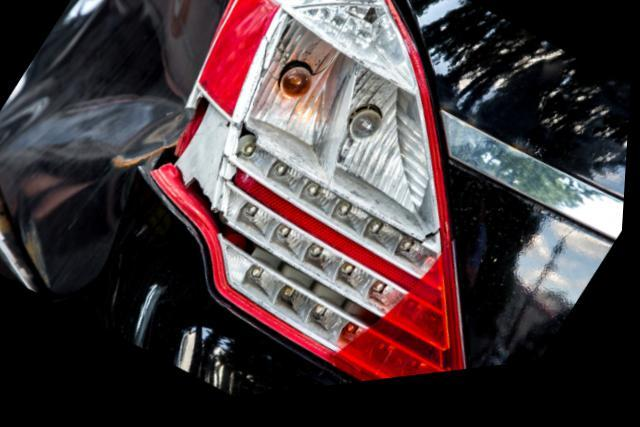dislocated part: (0, 168, 60, 303)
lamp broken: (148, 0, 470, 391)
